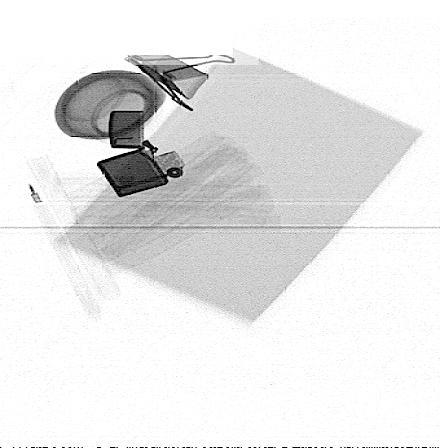Lighter: (96, 110, 187, 198)
